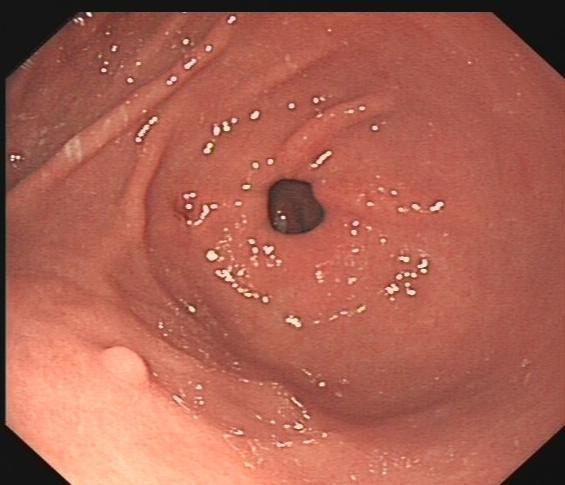Polyp: (82, 336, 167, 393)
